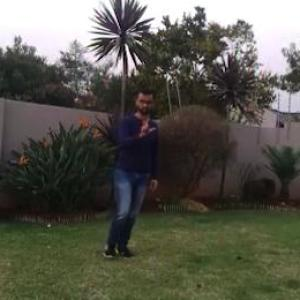land_hand: (128, 110, 160, 142)
